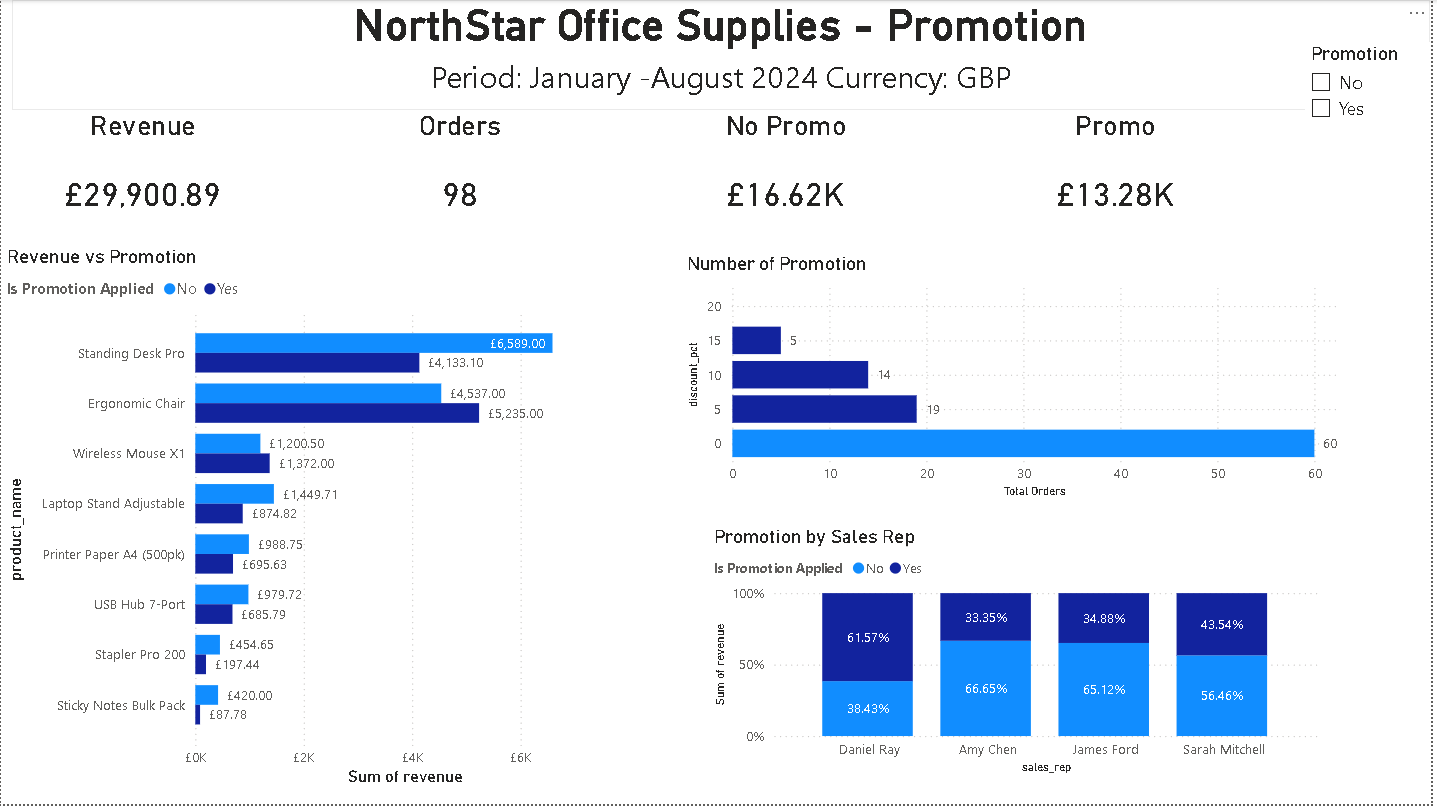

What the dashboard file says about the page in this screenshot:
{"tool":"powerbi","page":{"name":"Promotion","canvas":[1280,720],"ordinal":5},"visuals":[{"type":"textbox","title":"NorthStar Office Supplies - Promotion","box":[9.7,0,1270.3,98.2],"z":0},{"type":"clusteredBarChart","title":"Revenue vs Promotion","fields":{"Category":["sales_data_cleaned.product_name"],"Series":["sales_data_cleaned.Is Promotion Applied"],"Y":["Sum(sales_data_cleaned.revenue)"]},"box":[0,219.2,564.8,489.5],"z":2000},{"type":"clusteredBarChart","title":"Number of  Promotion","fields":{"Category":["sales_data_cleaned.discount_pct"],"Y":["sales_data_cleaned.Total Orders"]},"box":[609.3,225.7,598.2,224.8],"z":3000},{"type":"hundredPercentStackedColumnChart","title":"Promotion by Sales Rep","fields":{"Category":["sales_data_cleaned.sales_rep"],"Y":["Sum(sales_data_cleaned.revenue)"],"Series":["sales_data_cleaned.Is Promotion Applied"]},"box":[633.1,470,551.5,227],"z":4000},{"type":"listSlicer","fields":{"Values":["sales_data_cleaned.Is Promotion Applied"]},"box":[1167.8,37.2,112.6,214.6],"z":5000},{"type":"card","title":"Revenue","fields":{"Values":["sales_data_cleaned.Total Revenue"]},"box":[20.4,98.4,212.8,120.6],"z":6000},{"type":"card","title":"Orders","fields":{"Values":["Count(sales_data_cleaned.order_id)"]},"box":[304.1,98.4,213.7,120.6],"z":7000},{"type":"card","title":"No Promo","fields":{"Values":["sales_data_cleaned.Revenue - No Promo"]},"box":[596.7,98.4,212.8,120.6],"z":8000},{"type":"card","title":"Promo","fields":{"Values":["sales_data_cleaned.Revenue - Promo Applied"]},"box":[891.1,98.4,213.7,120.6],"z":9000}]}

Visuals, with their boxes in screenshot pixels (x1, y1, x2, y2), scaled from the page's 1280x720 canvas onto the 1437x806 screenshot:
"NorthStar Office Supplies - Promotion" textbox: crop(11, 0, 1436, 110)
"Revenue vs Promotion" clusteredBarChart: crop(0, 245, 634, 793)
"Number of  Promotion" clusteredBarChart: crop(684, 253, 1356, 504)
"Promotion by Sales Rep" hundredPercentStackedColumnChart: crop(711, 526, 1330, 780)
listSlicer - sales_data_cleaned.Is Promotion Applied: crop(1311, 42, 1436, 282)
"Revenue" card: crop(23, 110, 262, 245)
"Orders" card: crop(341, 110, 581, 245)
"No Promo" card: crop(670, 110, 909, 245)
"Promo" card: crop(1000, 110, 1240, 245)
